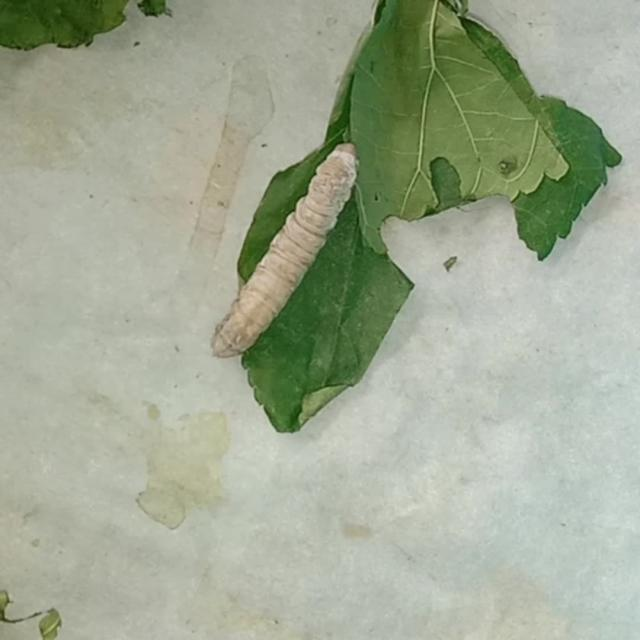Grasserie: (202, 138, 366, 382)
